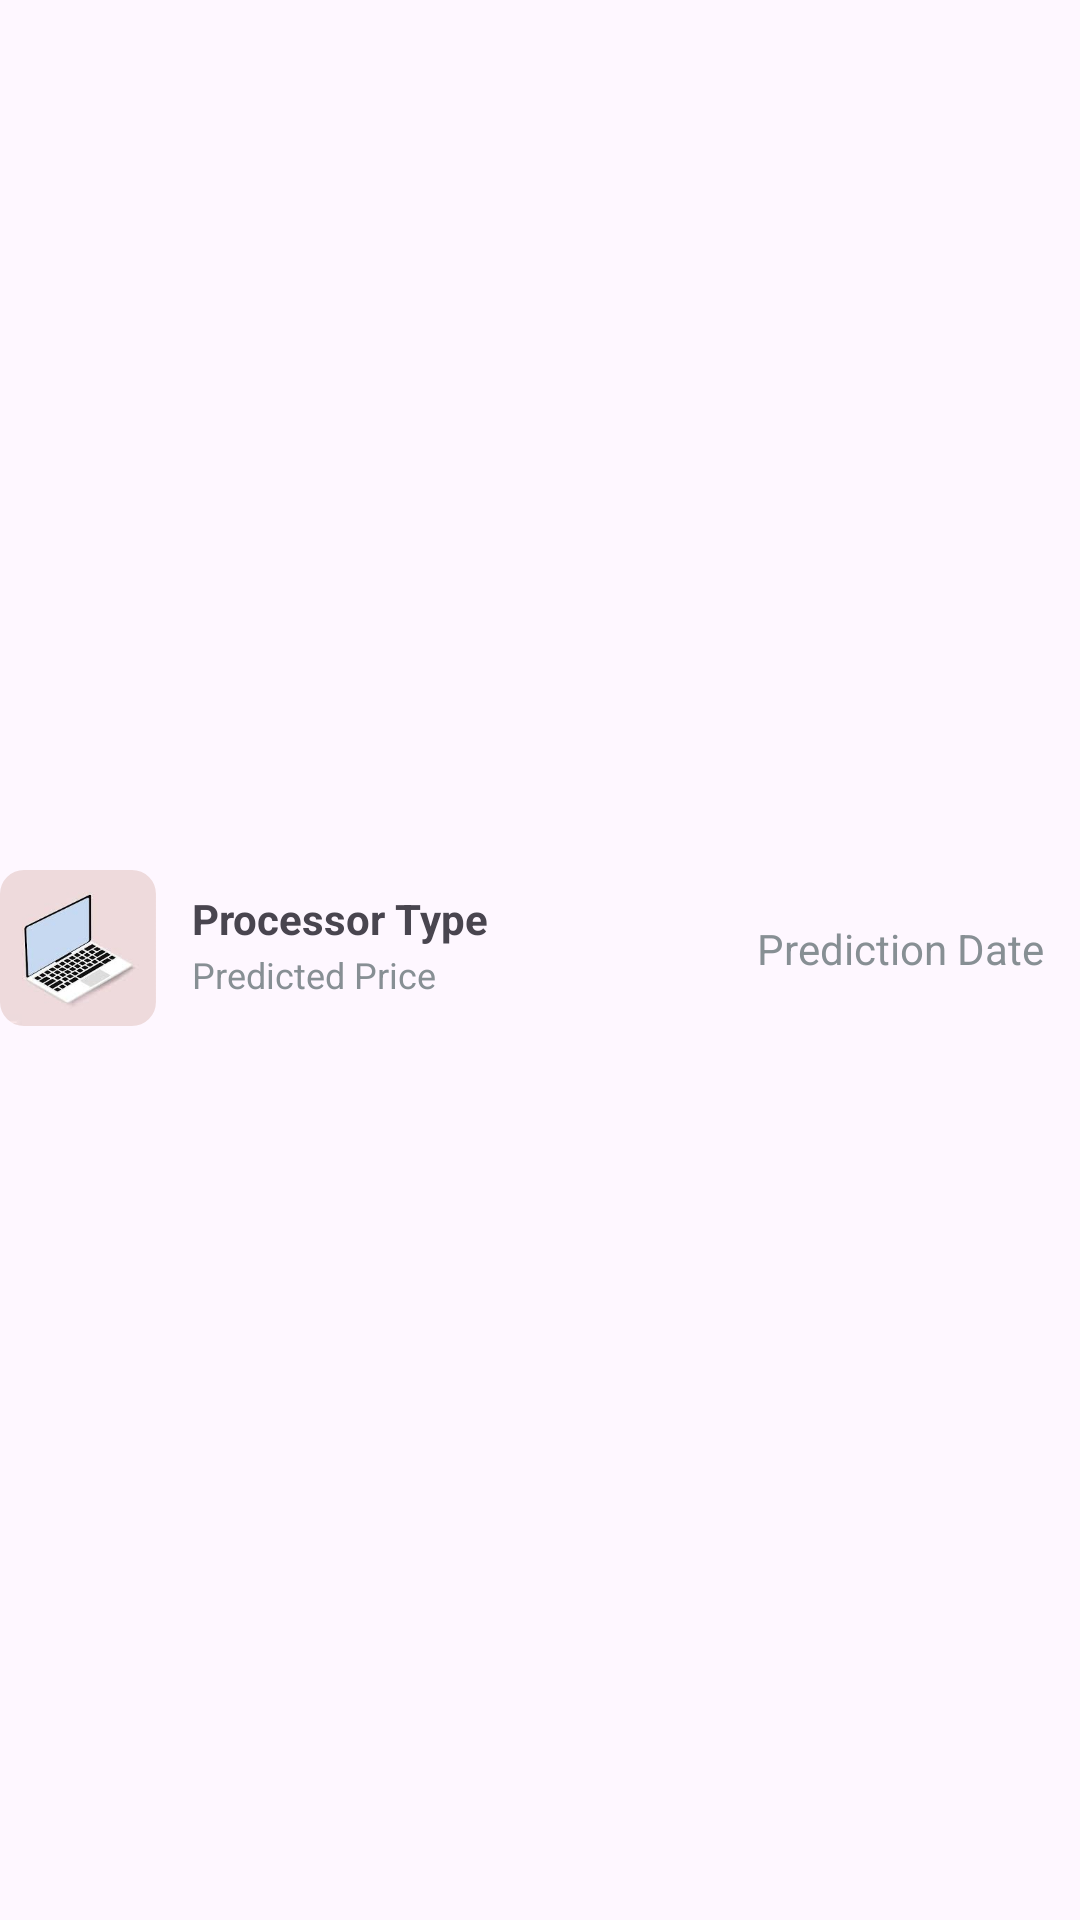

Point at icon controls on the screen. Image size 1080w x 1920h, points as [x,y].
laptop: [78,948]
